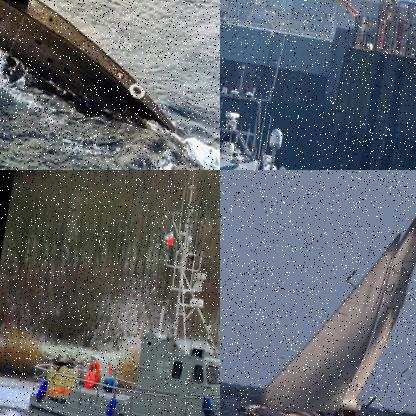Patrol Boat: (16, 170, 219, 415), (220, 0, 372, 169)
Sails Boat: (230, 170, 415, 415)
Submarine: (0, 0, 218, 138)
